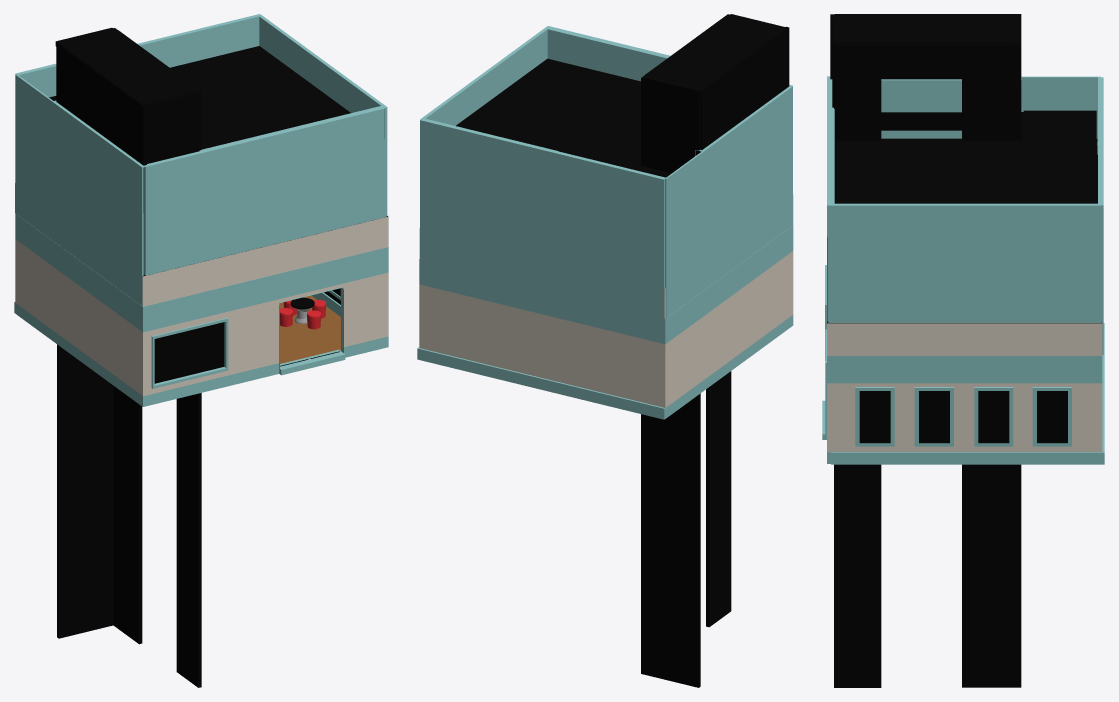
The model's file is building.glb.
3 views of the same model, side by side, from view 1: azimuth 30°, elevation 25°; view 2: azimuth 150°, elevation 25°; view 3: azimuth 270°, elevation 25° (orthographic). The views are drawn at different scales.
Parts seen in each view (by area): view 1: Cube.002, Wall.002, Cube.015, Cube.006, Wall.001, Cube.008, 2F.005, 2F, Cube.004, Cube.005, Cube.011, Cube.014 (+4 smaller); view 2: Wall.001, Cube.003, Cube.006, Cube.015, Cube.008, 2F.005, Cube.004, Cube.011, Cube.014, Cube.005; view 3: Cube.001, Wall.000, Cube.005, Cube.008, Cube.004, 2F, Cube.014, 2F.005, Cube.015, Cube.011, Cube.010, Cube.009 (+3 smaller).
Part boxes in pixels (x1,y1,x2,y2): Cube.002: (143,108,385,275); Wall.002: (141,247,388,406); Cube.015: (15,74,143,305); Cube.006: (57,344,113,638); Wall.001: (14,213,140,405); Cube.008: (170,46,350,149); 2F.005: (52,14,387,167); 2F: (15,183,388,306); Cube.004: (176,89,201,687); Cube.005: (113,28,142,644); Cube.011: (56,43,146,212); Cube.014: (55,27,198,105); Wall.001: (417,227,791,419); Cube.003: (420,119,665,318); Cube.006: (643,79,700,687); Cube.015: (665,86,792,317); Cube.008: (456,58,644,170); 2F.005: (420,26,793,155); Cube.004: (706,14,731,627); Cube.011: (700,26,789,152); Cube.014: (643,14,786,96); Cube.005: (641,75,645,674); Cube.001: (828,205,1100,322); Wall.000: (831,356,1097,464); Cube.005: (962,44,1021,687); Cube.008: (835,138,1097,203); Cube.004: (834,44,881,687); 2F: (827,142,1102,355); Cube.014: (834,14,1021,44); 2F.005: (827,76,1102,236); Cube.015: (881,76,1100,142); Cube.011: (830,14,961,130); Cube.010: (841,44,1012,68); Cube.009: (1021,110,1096,138).
Size of what is drawn, in the model's own units: 10.38 by 23.91 by 9.51.
